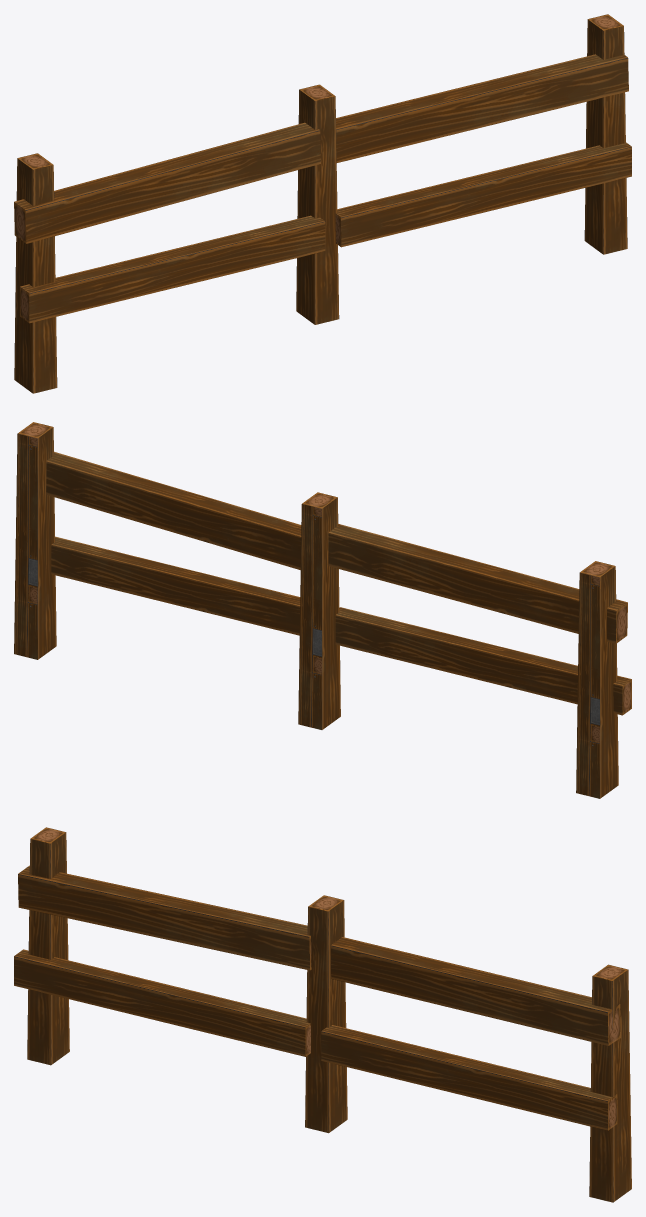
3 renders of one model, top to bottom at view 1: azimuth 30°, elevation 25°; view 2: azimuth 150°, elevation 25°; view 3: azimuth 330°, elevation 25°, orthographic.
Visible parts, largest first — view 1: Cube.1819; view 2: Cube.1819; view 3: Cube.1819.
Part boxes in pixels (x1,y1,x2,y2): Cube.1819: [14, 14, 631, 393]; Cube.1819: [14, 422, 631, 798]; Cube.1819: [14, 827, 631, 1202].
Size of the model in its own units: 373 by 132 by 26.57.
1 material, 1 textured.
